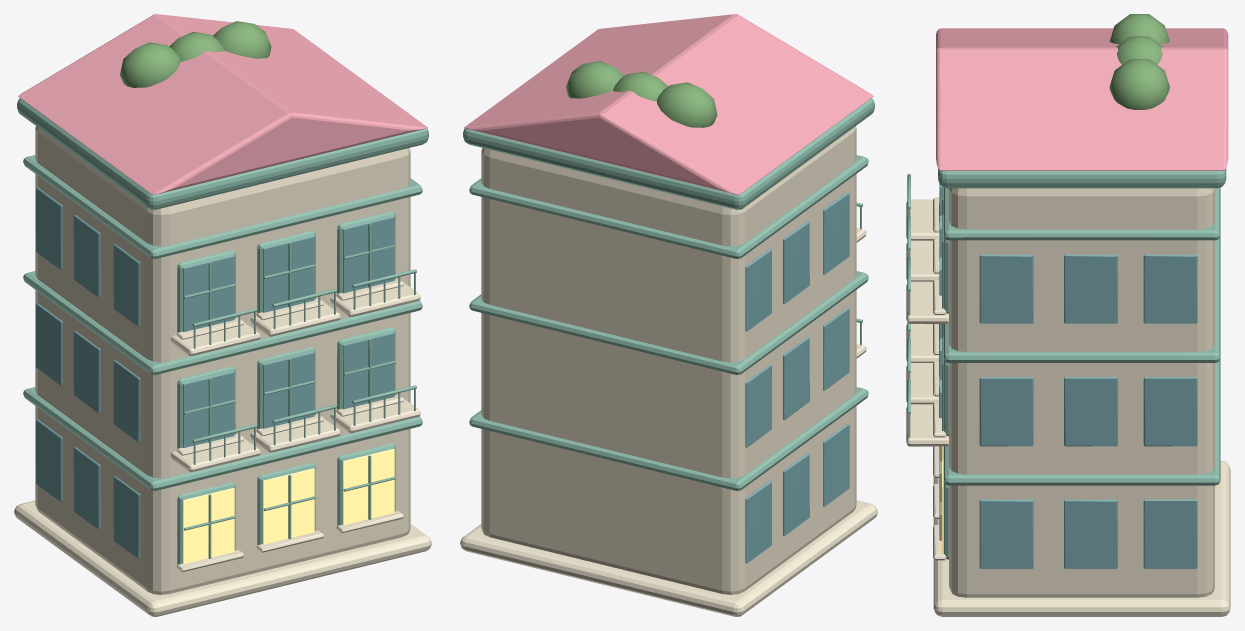
Rendered from apartment-lod1.glb.
3 views of the same model, side by side, from view 1: azimuth 30°, elevation 25°; view 2: azimuth 150°, elevation 25°; view 3: azimuth 270°, elevation 25° (orthographic). The views are drawn at different scales.
Parts seen in each view (by area): view 1: apartment-lod1; view 2: apartment-lod1; view 3: apartment-lod1.
Boxes of the visible parts, <box> form: apartment-lod1: <box>14,14,431,616</box>; apartment-lod1: <box>460,14,877,616</box>; apartment-lod1: <box>906,14,1230,616</box>.
Size of the model in its own units: 7.8 by 12.65 by 7.31.
